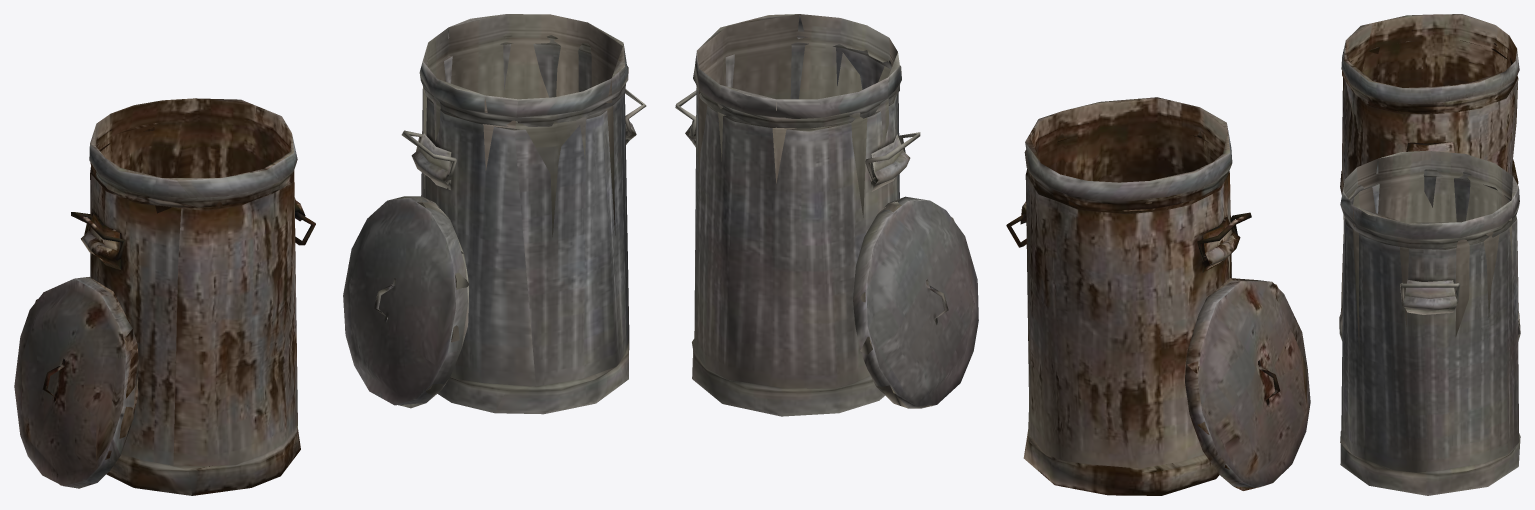
The model's file is metal_trash_can.glb.
The picture shows the model from 3 angles, left to right: view 1: azimuth 30°, elevation 25°; view 2: azimuth 150°, elevation 25°; view 3: azimuth 270°, elevation 25°; orthographic projection. The views are drawn at different scales.
Parts seen in each view (by area): view 1: metal_trash_can; view 2: metal_trash_can; view 3: metal_trash_can.
Boxes of the visible parts, x1,y1,x2,y2 form: metal_trash_can: (14,14,646,495); metal_trash_can: (675,14,1310,495); metal_trash_can: (1339,14,1520,495).
Size of the model in its own units: 1.78 by 0.9065 by 0.5534.
2 materials, 2 textured.
